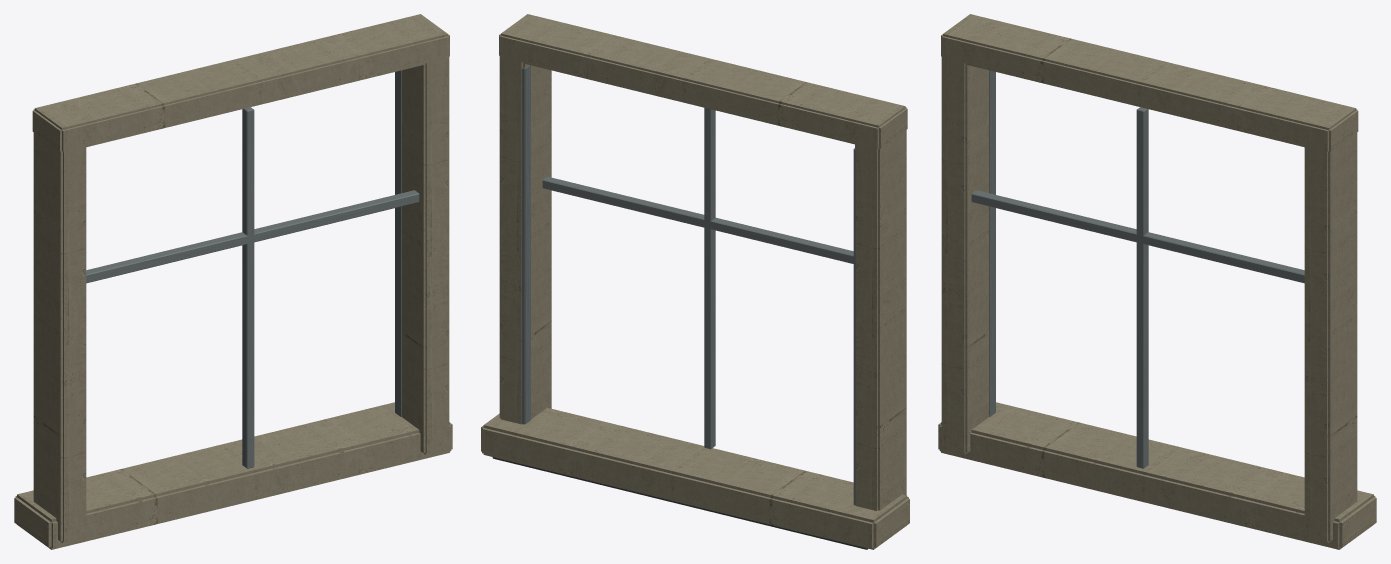
The model's file is WindowReveal.fbx.
3 views of the same model, side by side, from view 1: azimuth 30°, elevation 25°; view 2: azimuth 150°, elevation 25°; view 3: azimuth 330°, elevation 25° (orthographic). The views are drawn at different scales.
Parts seen in each view (by area): view 1: WindowReveal; view 2: WindowReveal; view 3: WindowReveal.
Boxes of the visible parts, bbox=[...] form: WindowReveal: bbox=[14, 14, 452, 549]; WindowReveal: bbox=[481, 14, 909, 549]; WindowReveal: bbox=[938, 14, 1376, 549].
Size of the model in its own units: 118 by 119 by 21.
